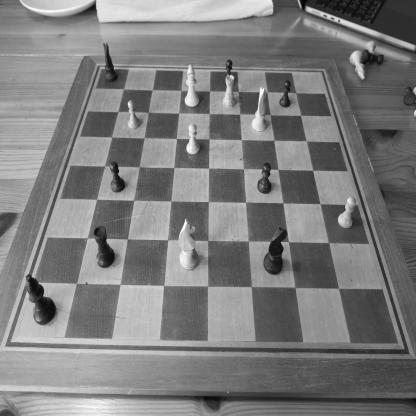black-bishop: (24, 273, 57, 326)
black-knight: (262, 225, 288, 276), (102, 41, 118, 82)
black-pawn: (256, 162, 272, 195), (110, 161, 125, 193), (279, 79, 291, 108), (223, 59, 232, 85)
black-rook: (93, 224, 115, 269), (361, 49, 385, 66)
white-bishop: (184, 64, 200, 107), (349, 49, 366, 81)
white-knight: (178, 218, 199, 271), (252, 86, 267, 132)
white-pawn: (338, 196, 356, 229), (186, 124, 200, 155), (127, 99, 141, 130)
white-rook: (222, 74, 236, 109)
